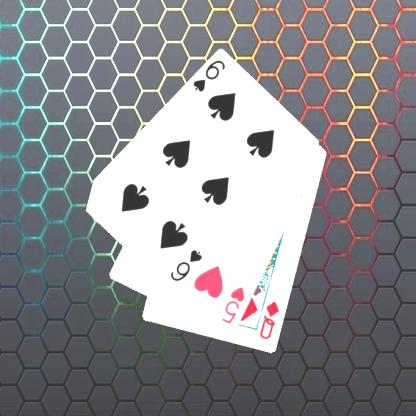5H: (218, 284, 246, 326)
6S: (190, 57, 227, 94), (167, 247, 204, 283)
QD: (257, 298, 281, 341)
